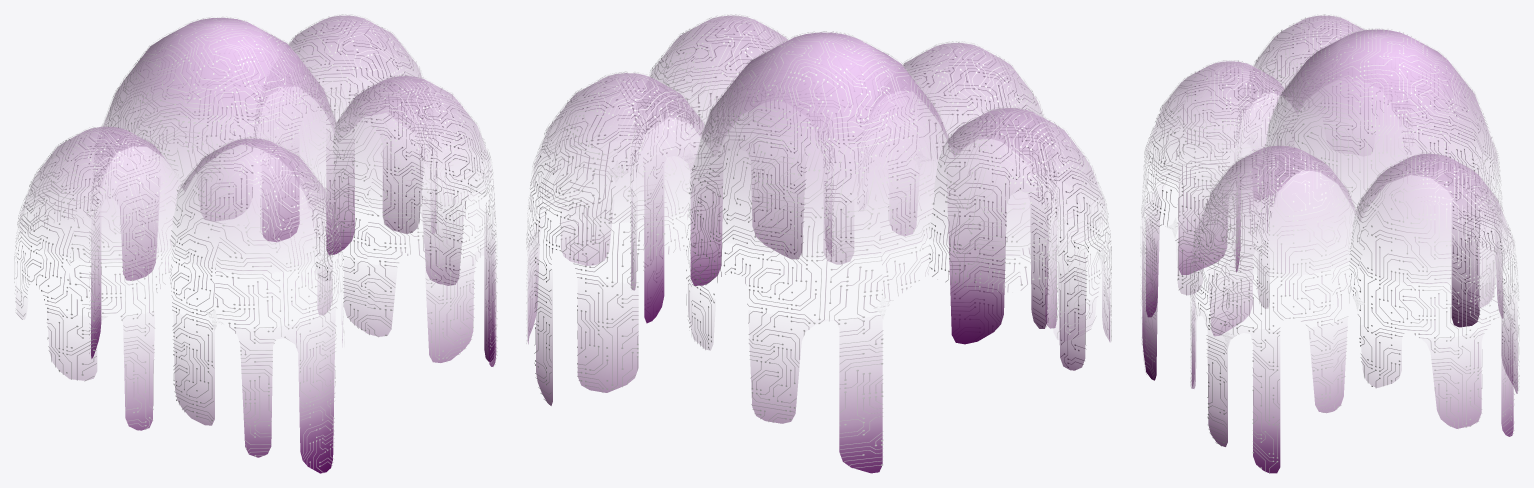
The model's file is DomeExtra01_Art.glb.
3 renders of one model, left to right at view 1: azimuth 30°, elevation 25°; view 2: azimuth 150°, elevation 25°; view 3: azimuth 270°, elevation 25°, orthographic. The views are drawn at different scales.
Visible parts, largest first — view 1: DomeExtra01_Art; view 2: DomeExtra01_Art; view 3: DomeExtra01_Art.
Boxes of the visible parts, x1,y1,x2,y2 form: DomeExtra01_Art: (14,14,497,473); DomeExtra01_Art: (526,14,1111,473); DomeExtra01_Art: (1140,14,1519,473).
Bounding box in the file's own units: 37.76 × 28.6 × 28.26.
Materials: 2 (2 with a texture image).
